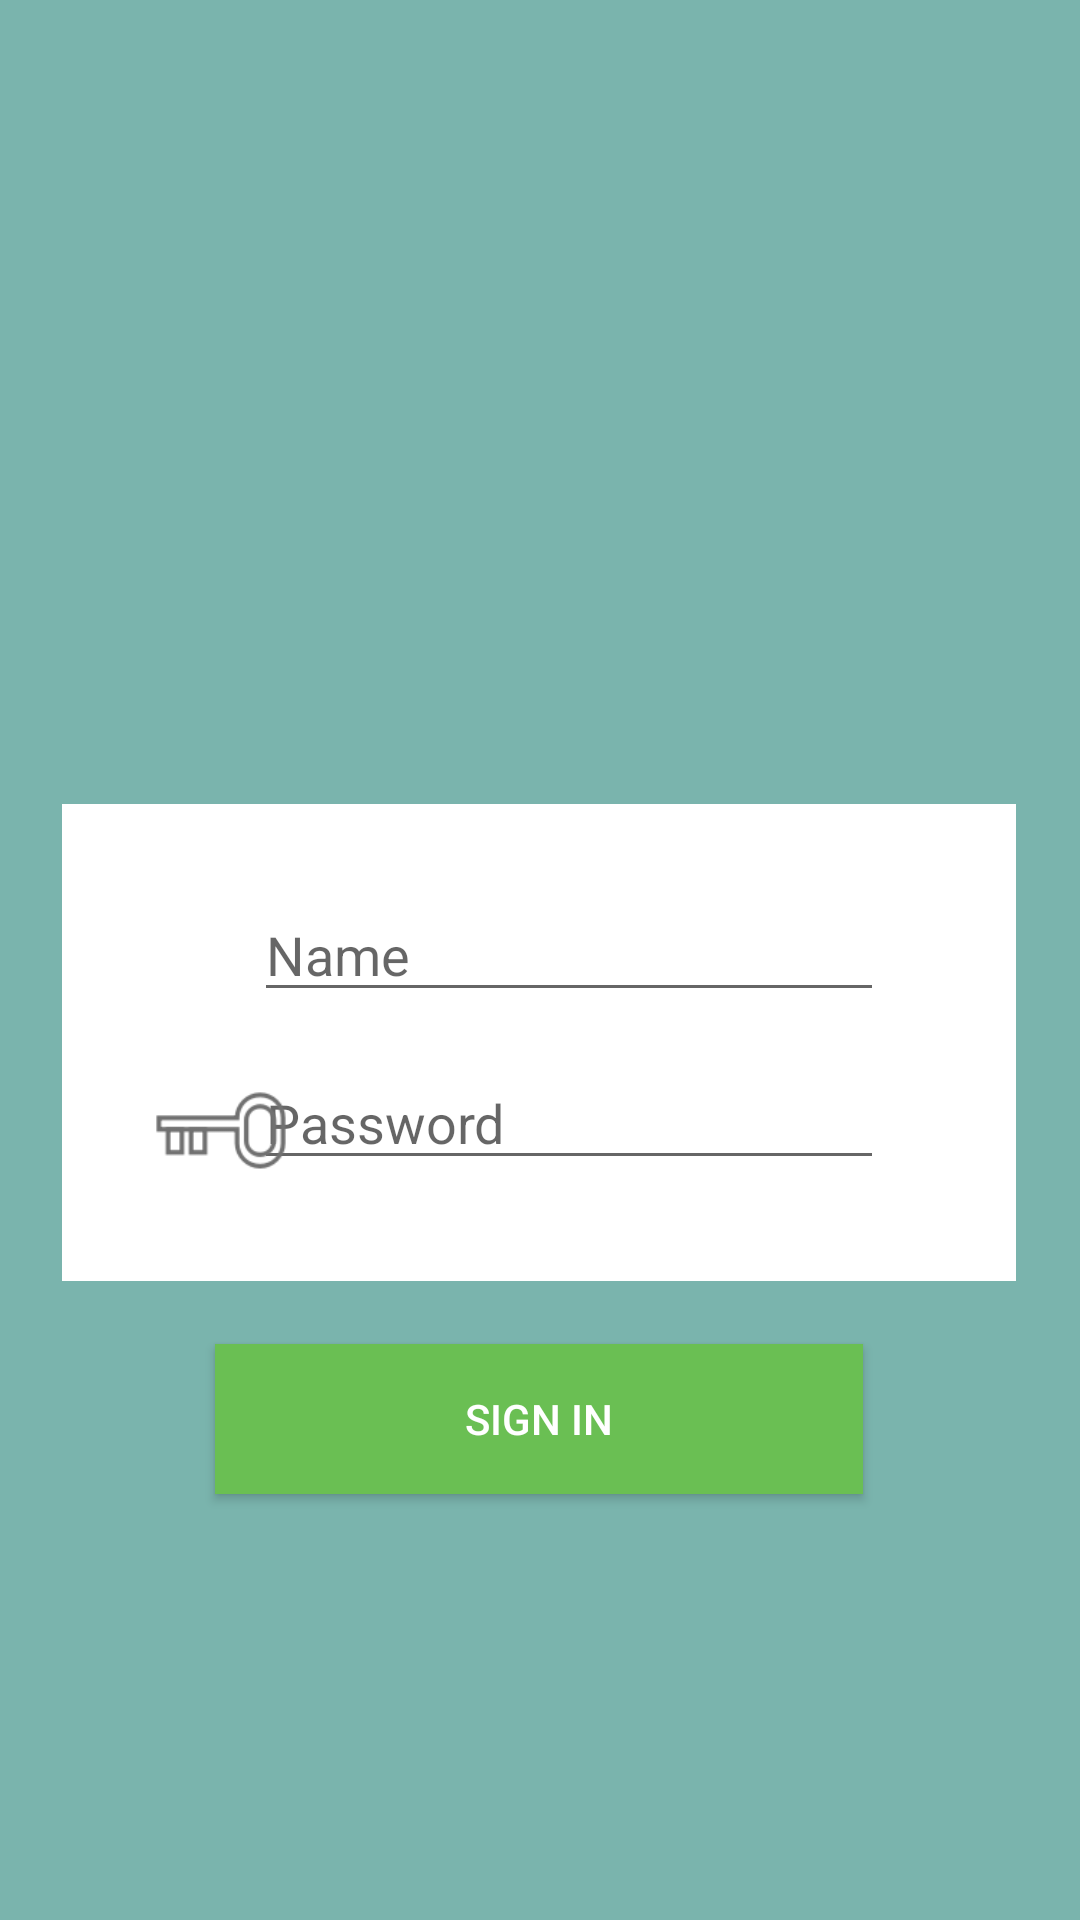

Screen size 1080w x 1920h. Icon name, then its box in pixels as (x1, y1, x2, y2):
key: (156, 1092, 290, 1169)
